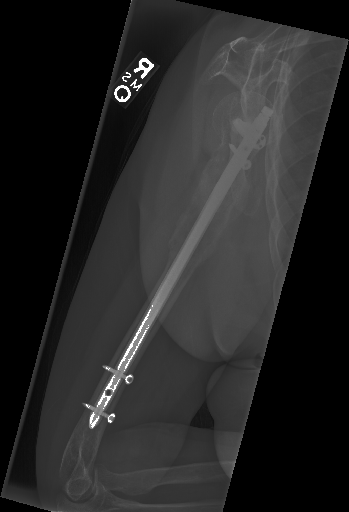implant: (79, 353, 137, 436)
